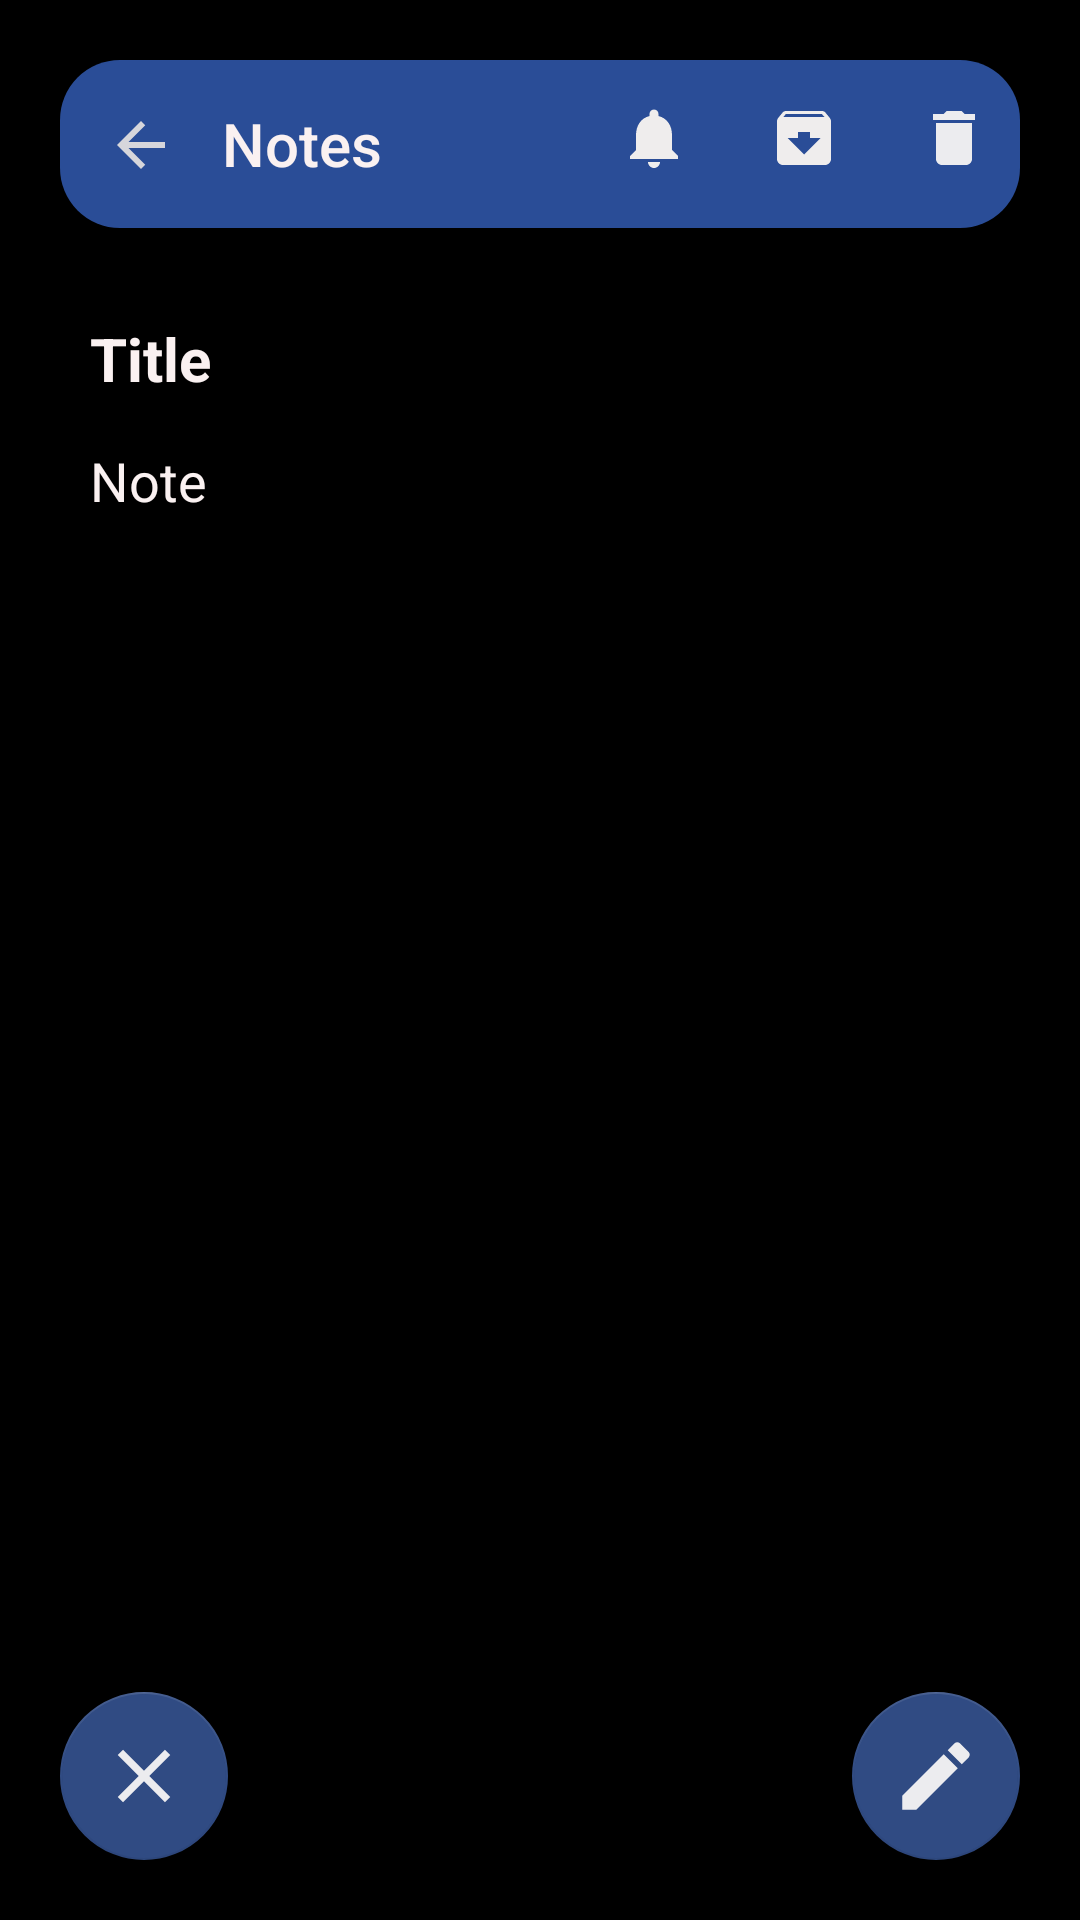

Named icons in this screenshot (1080w x 1920h) and their bounding boxes, (x1, y1, x2, y2):
arrow back: (117, 121, 165, 169)
close: (60, 1692, 228, 1860)
delete: (933, 111, 975, 165)
edit: (852, 1692, 1020, 1860)
notifications: (630, 109, 678, 168)
whitearchive: (777, 111, 831, 165)
